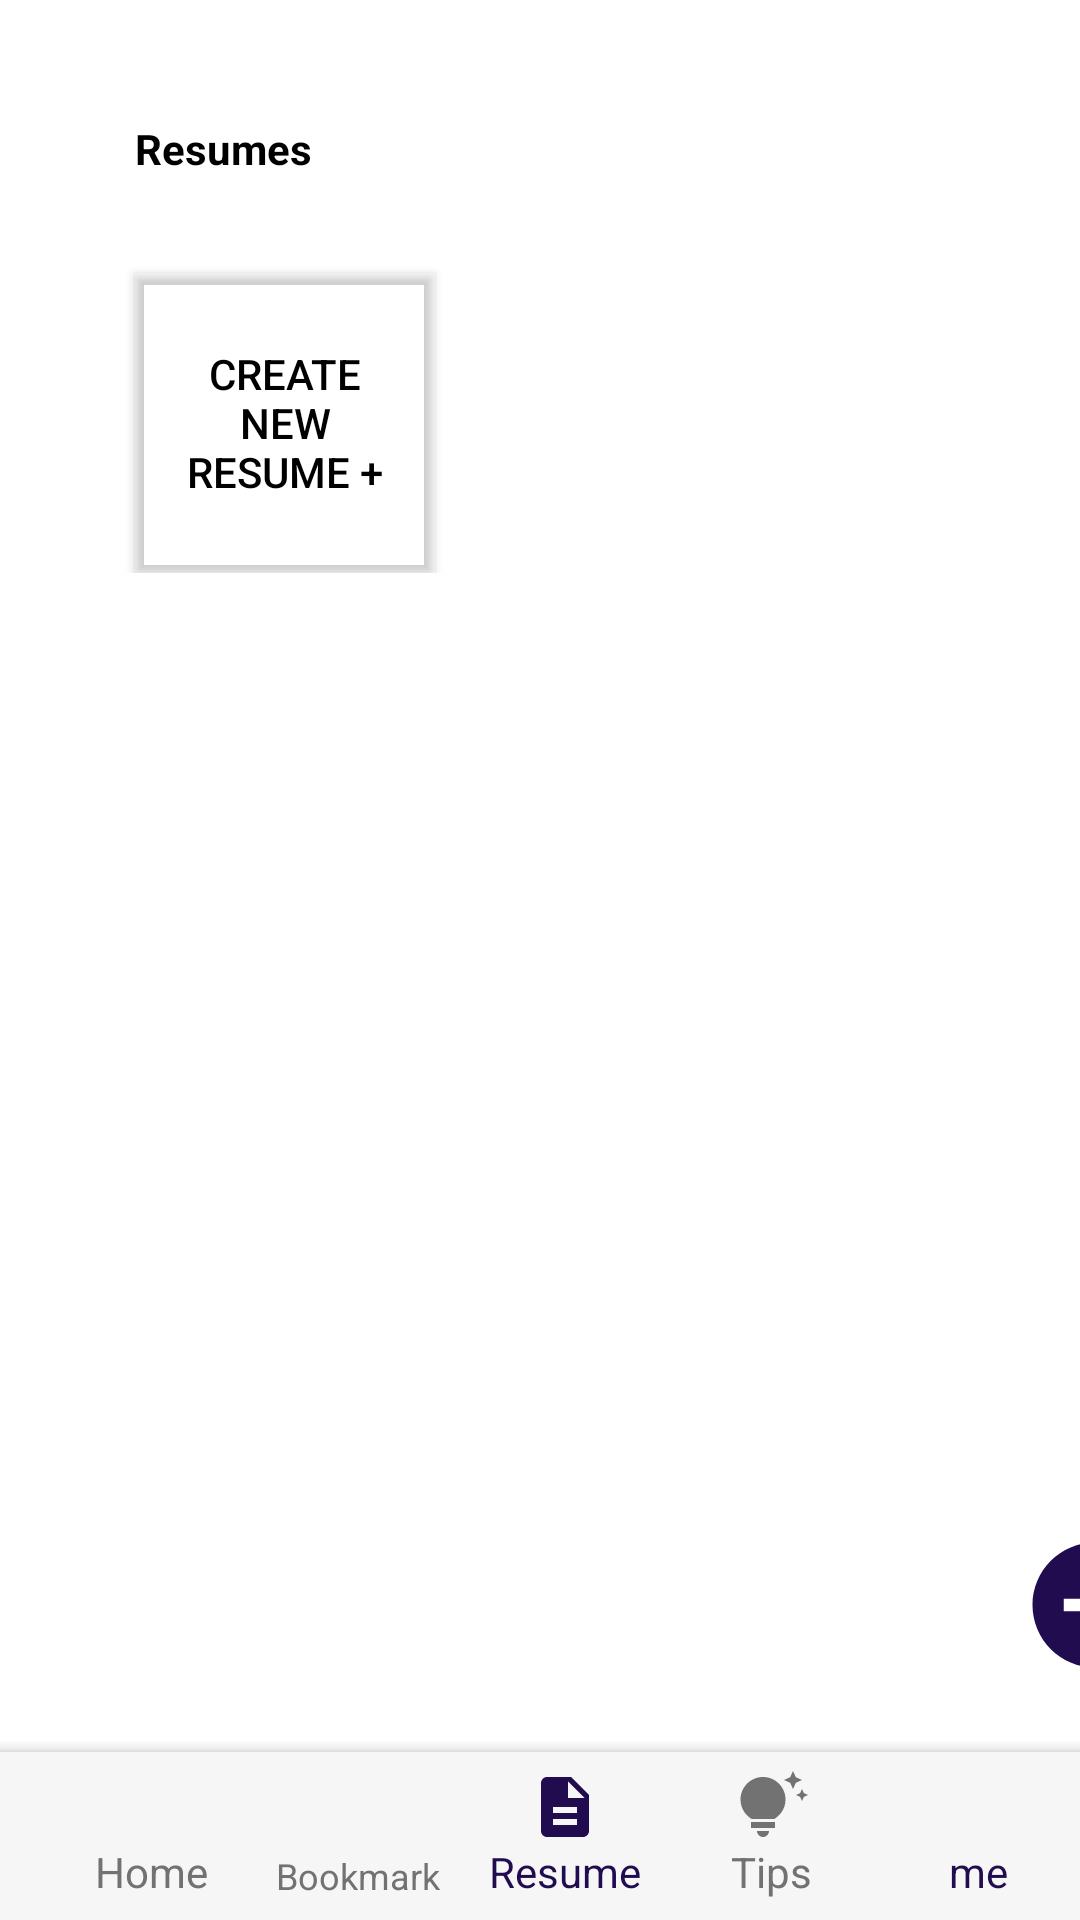

Icon bounding boxes for this 1080*1920 phone screenshot, format (x1, y1, x2, y2):
description onclick: (541, 1777, 589, 1837)
